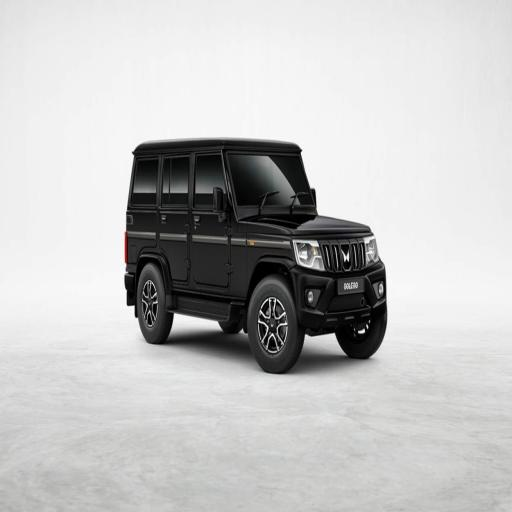suv: (125, 138, 386, 373)
